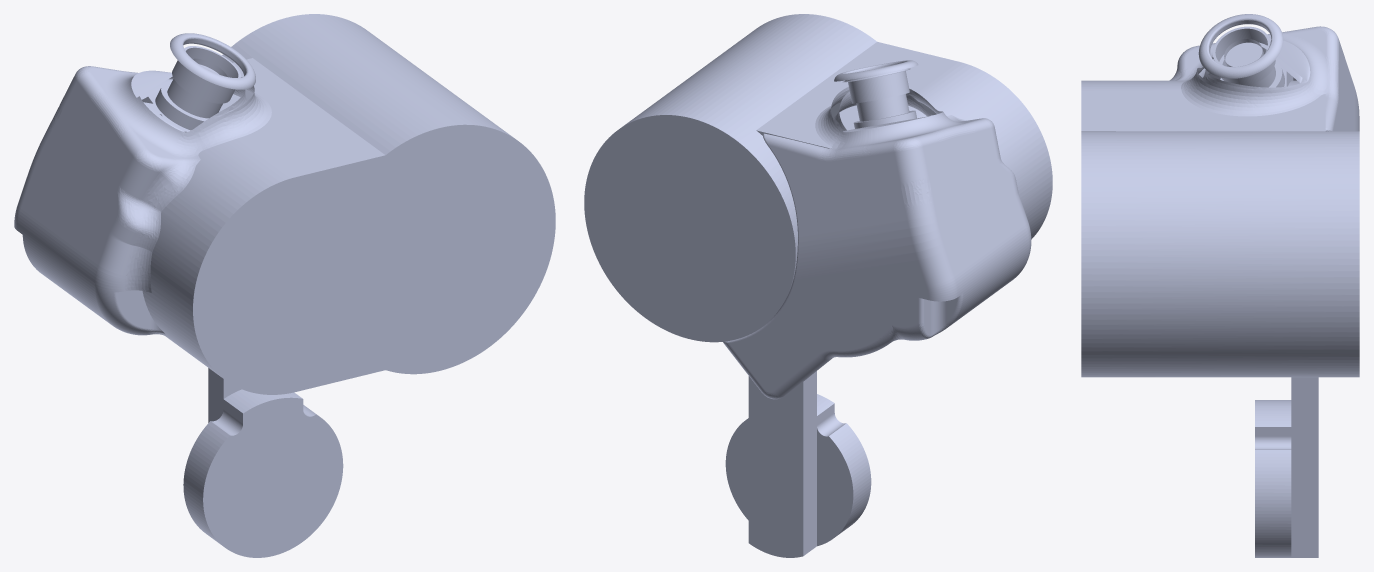
The model's file is hand.dae.
3 renders of one model, left to right at view 1: azimuth 30°, elevation 25°; view 2: azimuth 150°, elevation 25°; view 3: azimuth 270°, elevation 25°, orthographic. The views are drawn at different scales.
Parts seen in each view (by area): view 1: node_b73087c0_d223_4d76_af93_9637f4c83368_mesh1, node_b73087c0_d223_4d76_af93_9637f4c83368_mesh0; view 2: node_b73087c0_d223_4d76_af93_9637f4c83368_mesh0, node_b73087c0_d223_4d76_af93_9637f4c83368_mesh1; view 3: node_b73087c0_d223_4d76_af93_9637f4c83368_mesh1, node_b73087c0_d223_4d76_af93_9637f4c83368_mesh0.
Part boxes in pixels (x1,y1,x2,y2): node_b73087c0_d223_4d76_af93_9637f4c83368_mesh1: (17,14,555,557); node_b73087c0_d223_4d76_af93_9637f4c83368_mesh0: (14,46,295,377); node_b73087c0_d223_4d76_af93_9637f4c83368_mesh0: (584,61,1052,399); node_b73087c0_d223_4d76_af93_9637f4c83368_mesh1: (622,14,1031,557); node_b73087c0_d223_4d76_af93_9637f4c83368_mesh1: (1081,14,1359,557); node_b73087c0_d223_4d76_af93_9637f4c83368_mesh0: (1081,26,1359,131).
Size of the model in its own units: 99.6 by 65.5 by 128.
